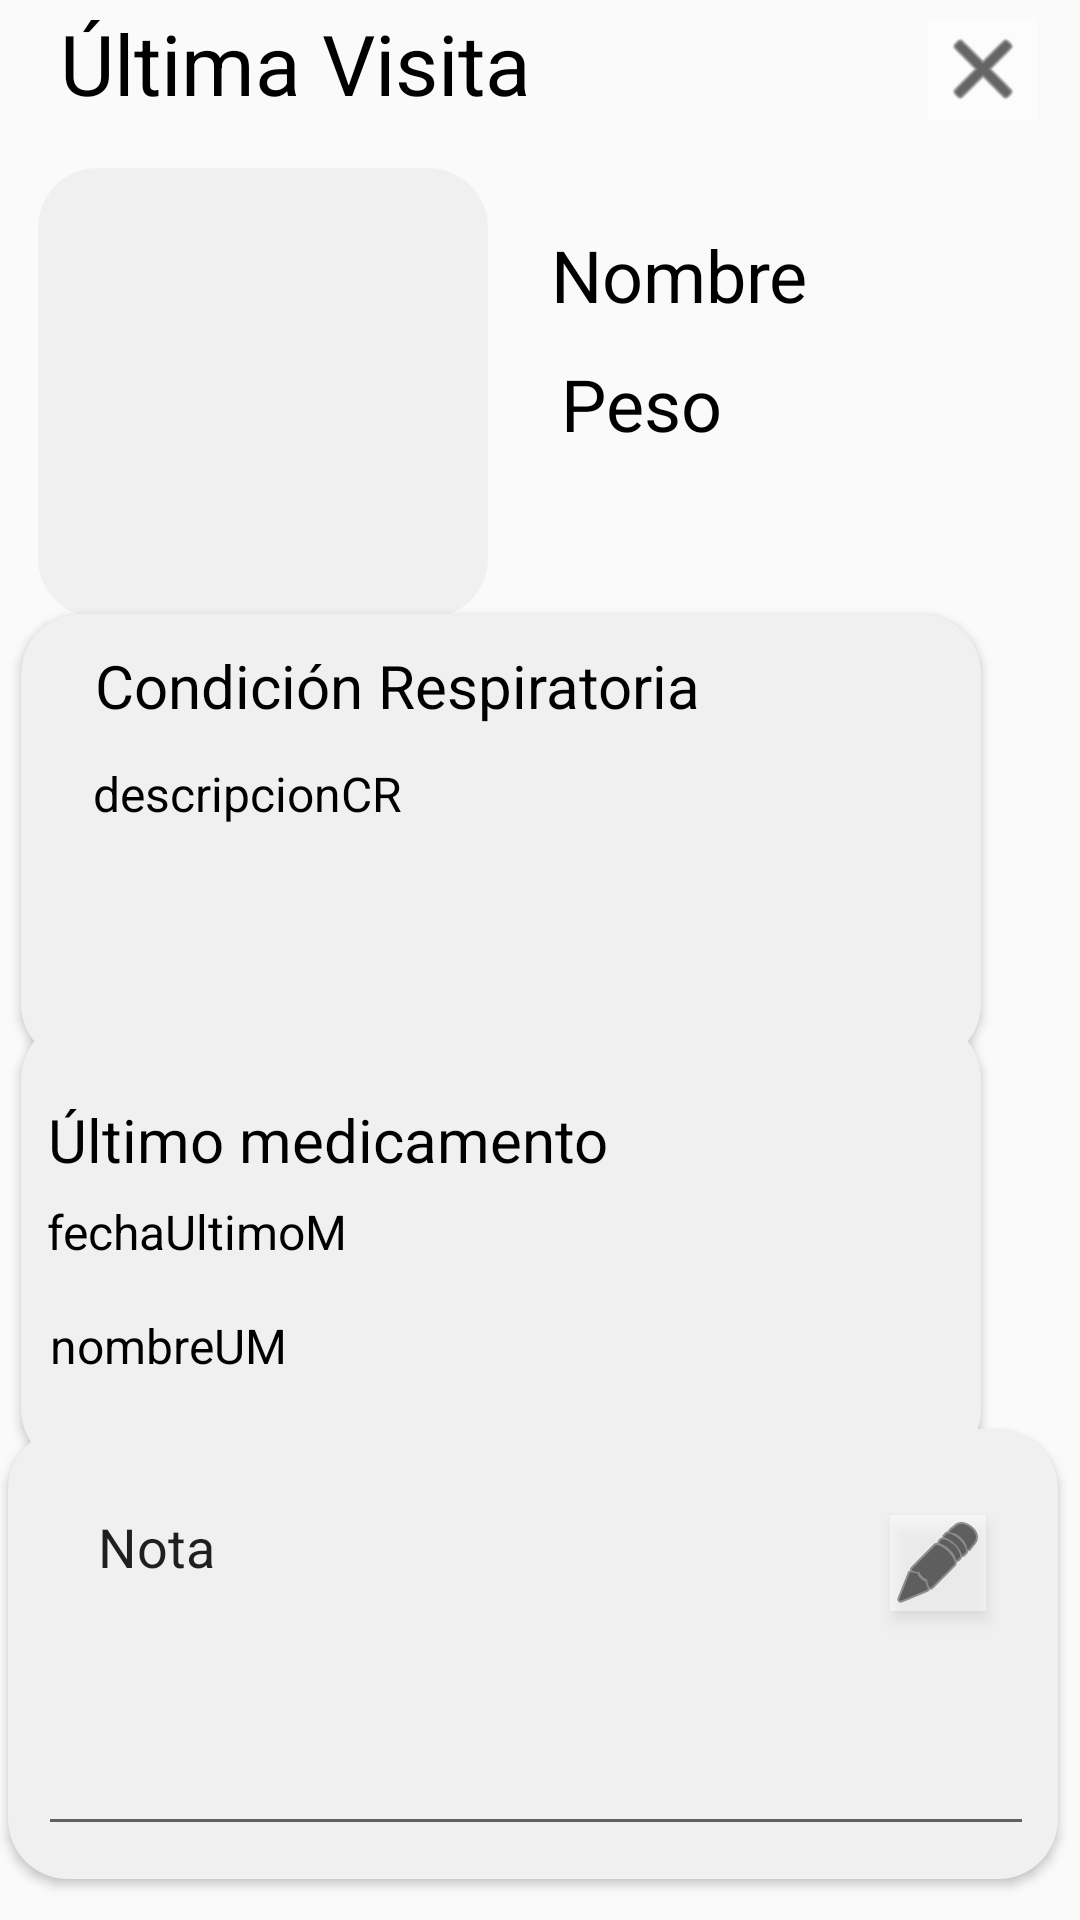

Where to tap for icons on this 1080x1920 app screen, as (x=x, y=y):
close clear cancel: (x=983, y=69)
edit: (x=938, y=1565)
